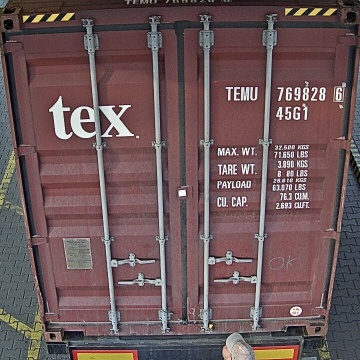serial_id: (225, 87, 344, 101)
